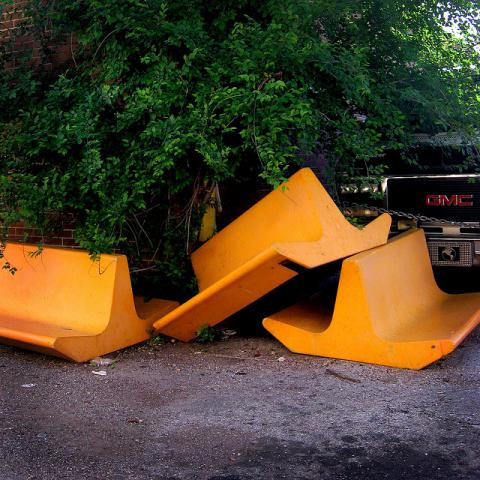truck: (382, 174, 479, 290)
